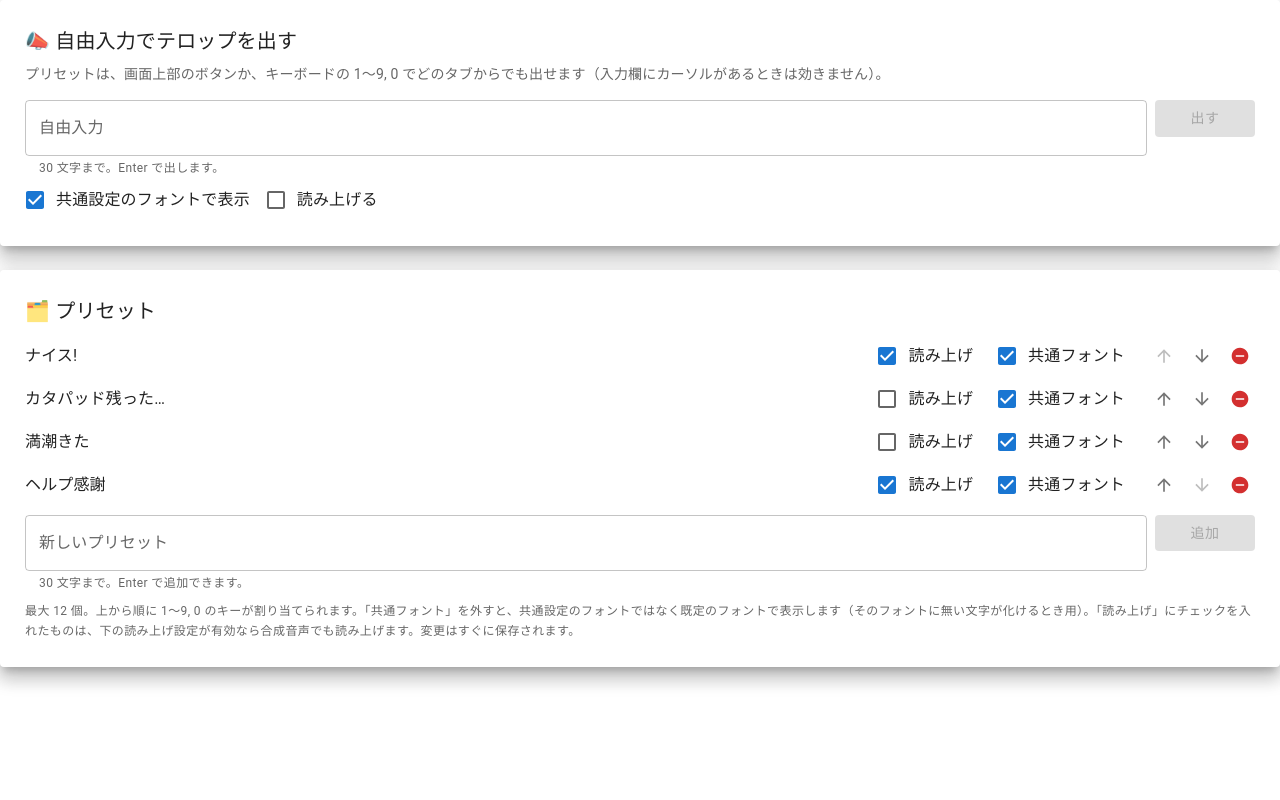
Test: TelopPanel › reloads the presets when saving fails
Expected: the heading "📣 自由入力でテロップを出す" is shown, x1=25 y1=29 x2=297 y2=53
Click the button named "プリセット「ナイス!」を削除". click: (1240, 356)
box: x1=1225 y1=341 x2=1255 y2=371
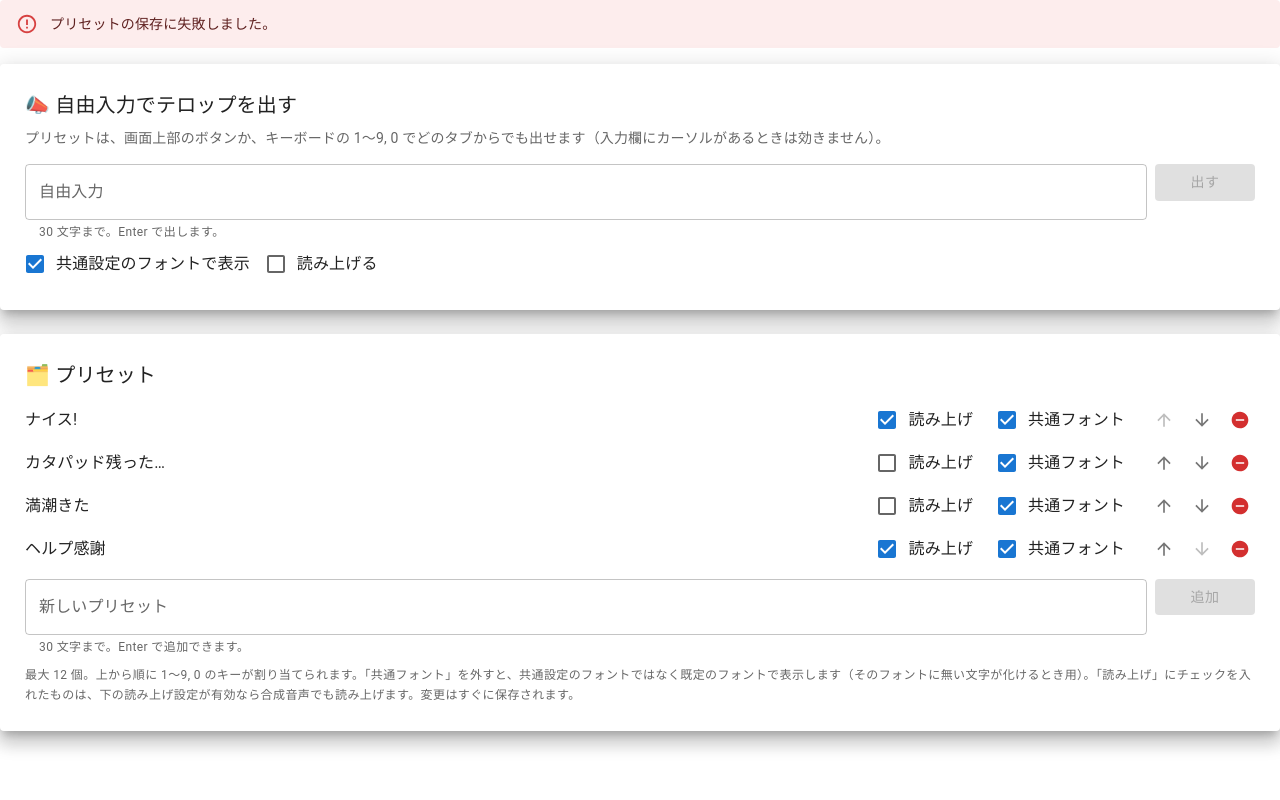
Expected: the text "ナイス!" is shown, x1=25 y1=410 x2=77 y2=429
Result: the text "プリセットの保存に失敗しました。" is shown at x1=50 y1=16 x2=276 y2=32
